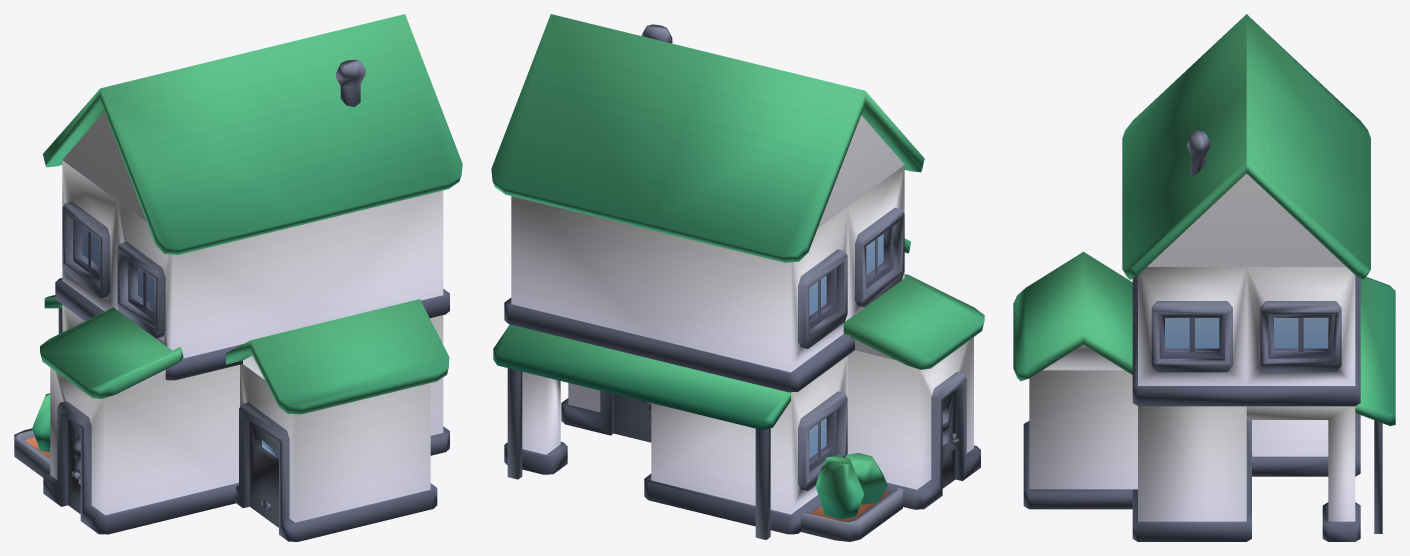
Rendered from building-type-s_lev1.glb.
3 renders of one model, left to right at view 1: azimuth 30°, elevation 25°; view 2: azimuth 150°, elevation 25°; view 3: azimuth 270°, elevation 25°, orthographic. The views are drawn at different scales.
Parts seen in each view (by area): view 1: building-type-s_lev1; view 2: building-type-s_lev1; view 3: building-type-s_lev1.
Part boxes in pixels (x1,y1,x2,y2): building-type-s_lev1: (14, 14, 462, 541); building-type-s_lev1: (491, 14, 984, 541); building-type-s_lev1: (1013, 14, 1395, 541).
Bounding box in the file's own units: 8.42 × 8.56 × 7.68.
Materials: 1 (1 with a texture image).
